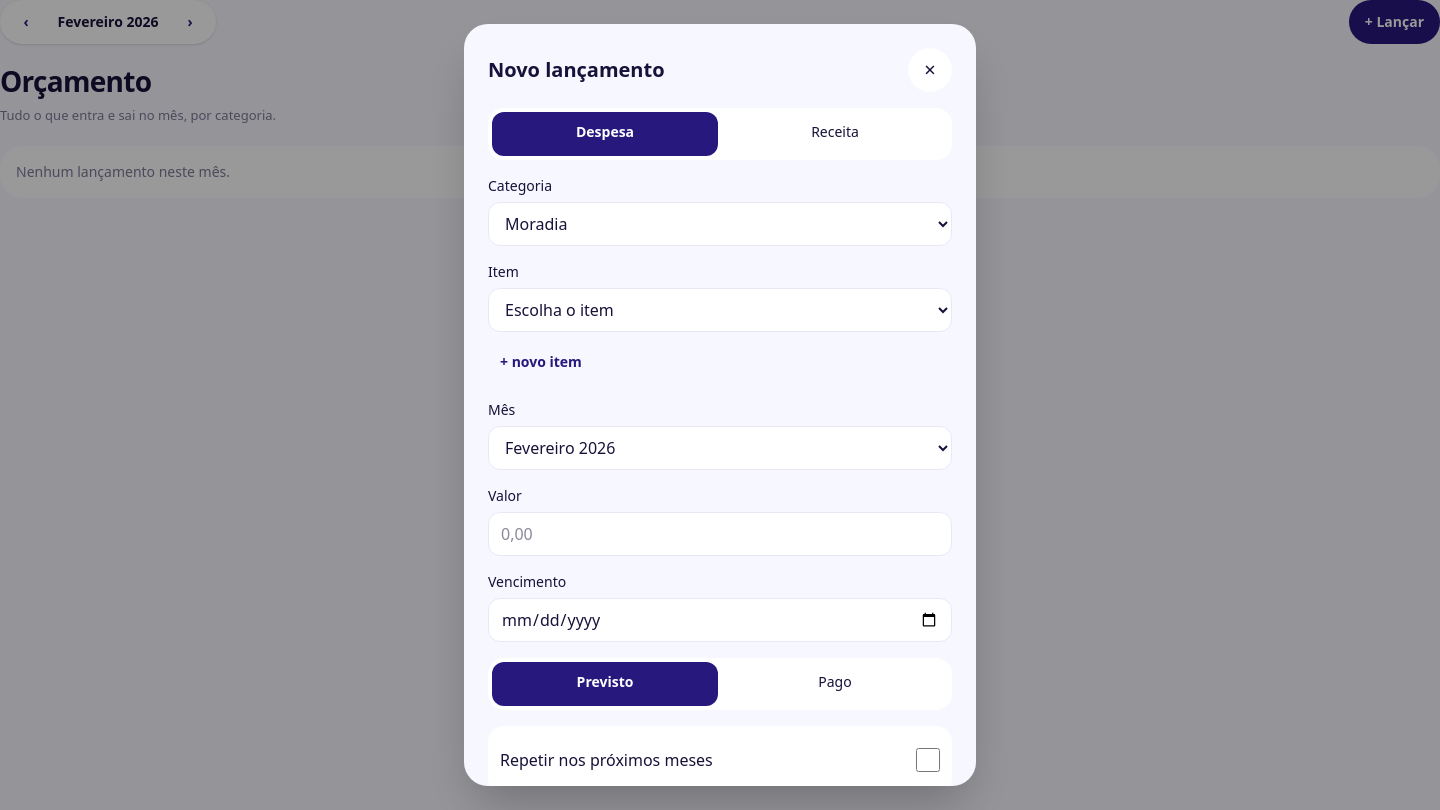
LancamentoForm (novo) › form_preenche_vencimento_pelo_dia_do_item
Select "Condomínio" in the dropdown labelled "Item". click: (720, 310)
box: x1=488 y1=288 x2=952 y2=332
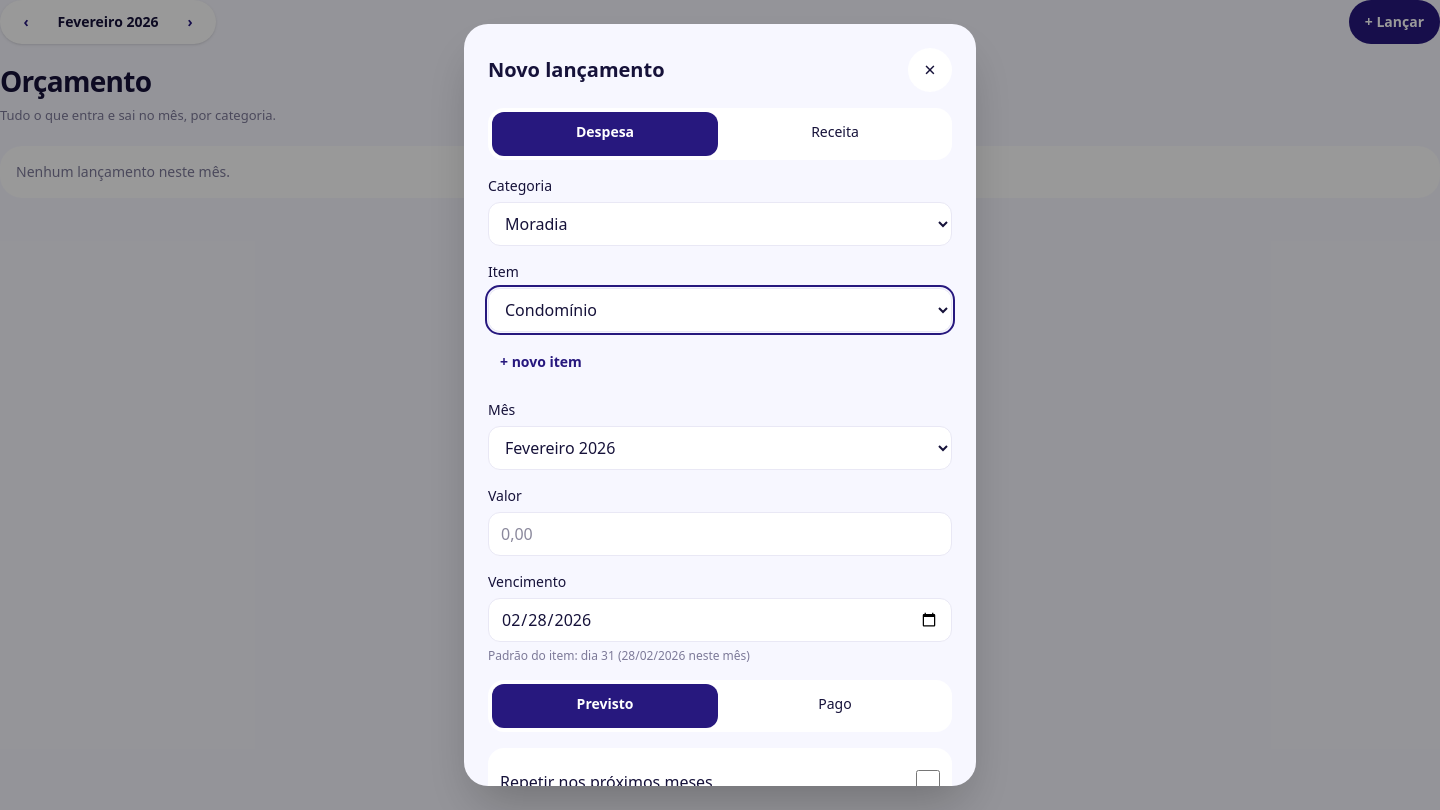
Now the date field labelled "Vencimento" holds "2026-02-28", box x1=488 y1=598 x2=952 y2=642
Now the text "Padrão do item: dia 31 (28/02/2026 neste mês)" is shown, box x1=488 y1=647 x2=750 y2=664
